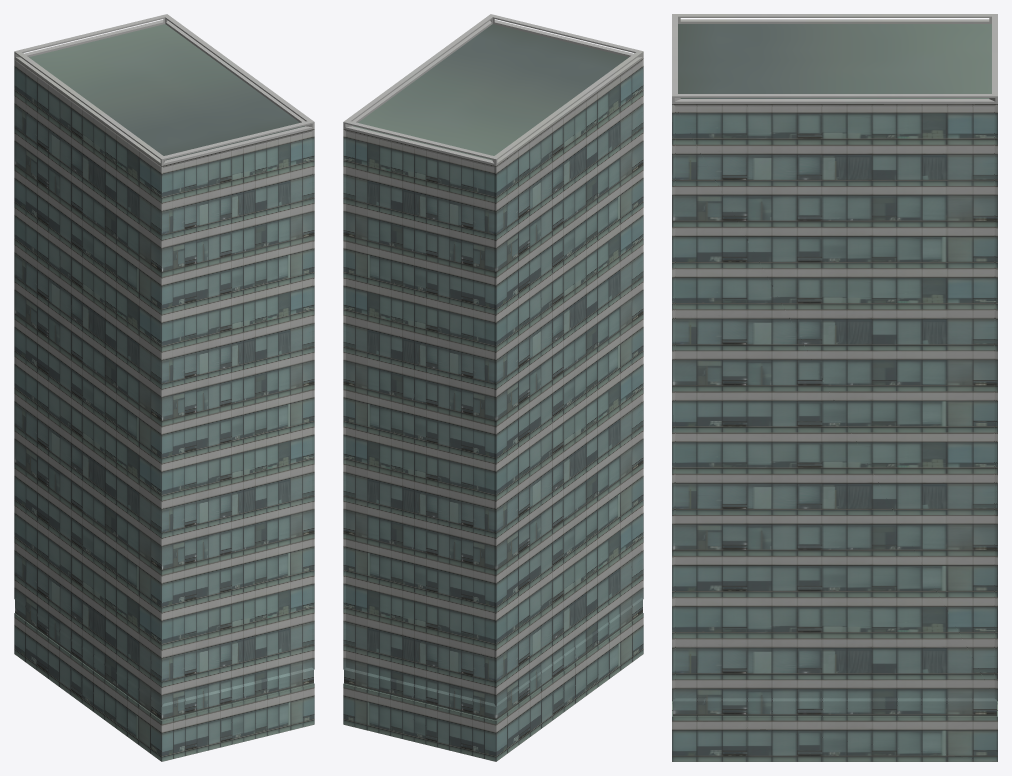
Rendered from WhyNot_Building_Low (1).fbx.
3 views of the same model, side by side, from view 1: azimuth 30°, elevation 25°; view 2: azimuth 150°, elevation 25°; view 3: azimuth 270°, elevation 25° (orthographic). The views are drawn at different scales.
Parts seen in each view (by area): view 1: Low; view 2: Low; view 3: Low.
Boxes of the visible parts, box(x1,y1,x2,y2) form: Low: box(14, 14, 314, 761); Low: box(343, 14, 643, 761); Low: box(672, 14, 997, 761).
Bounding box in the file's own units: 6159 × 23176 × 10285.
